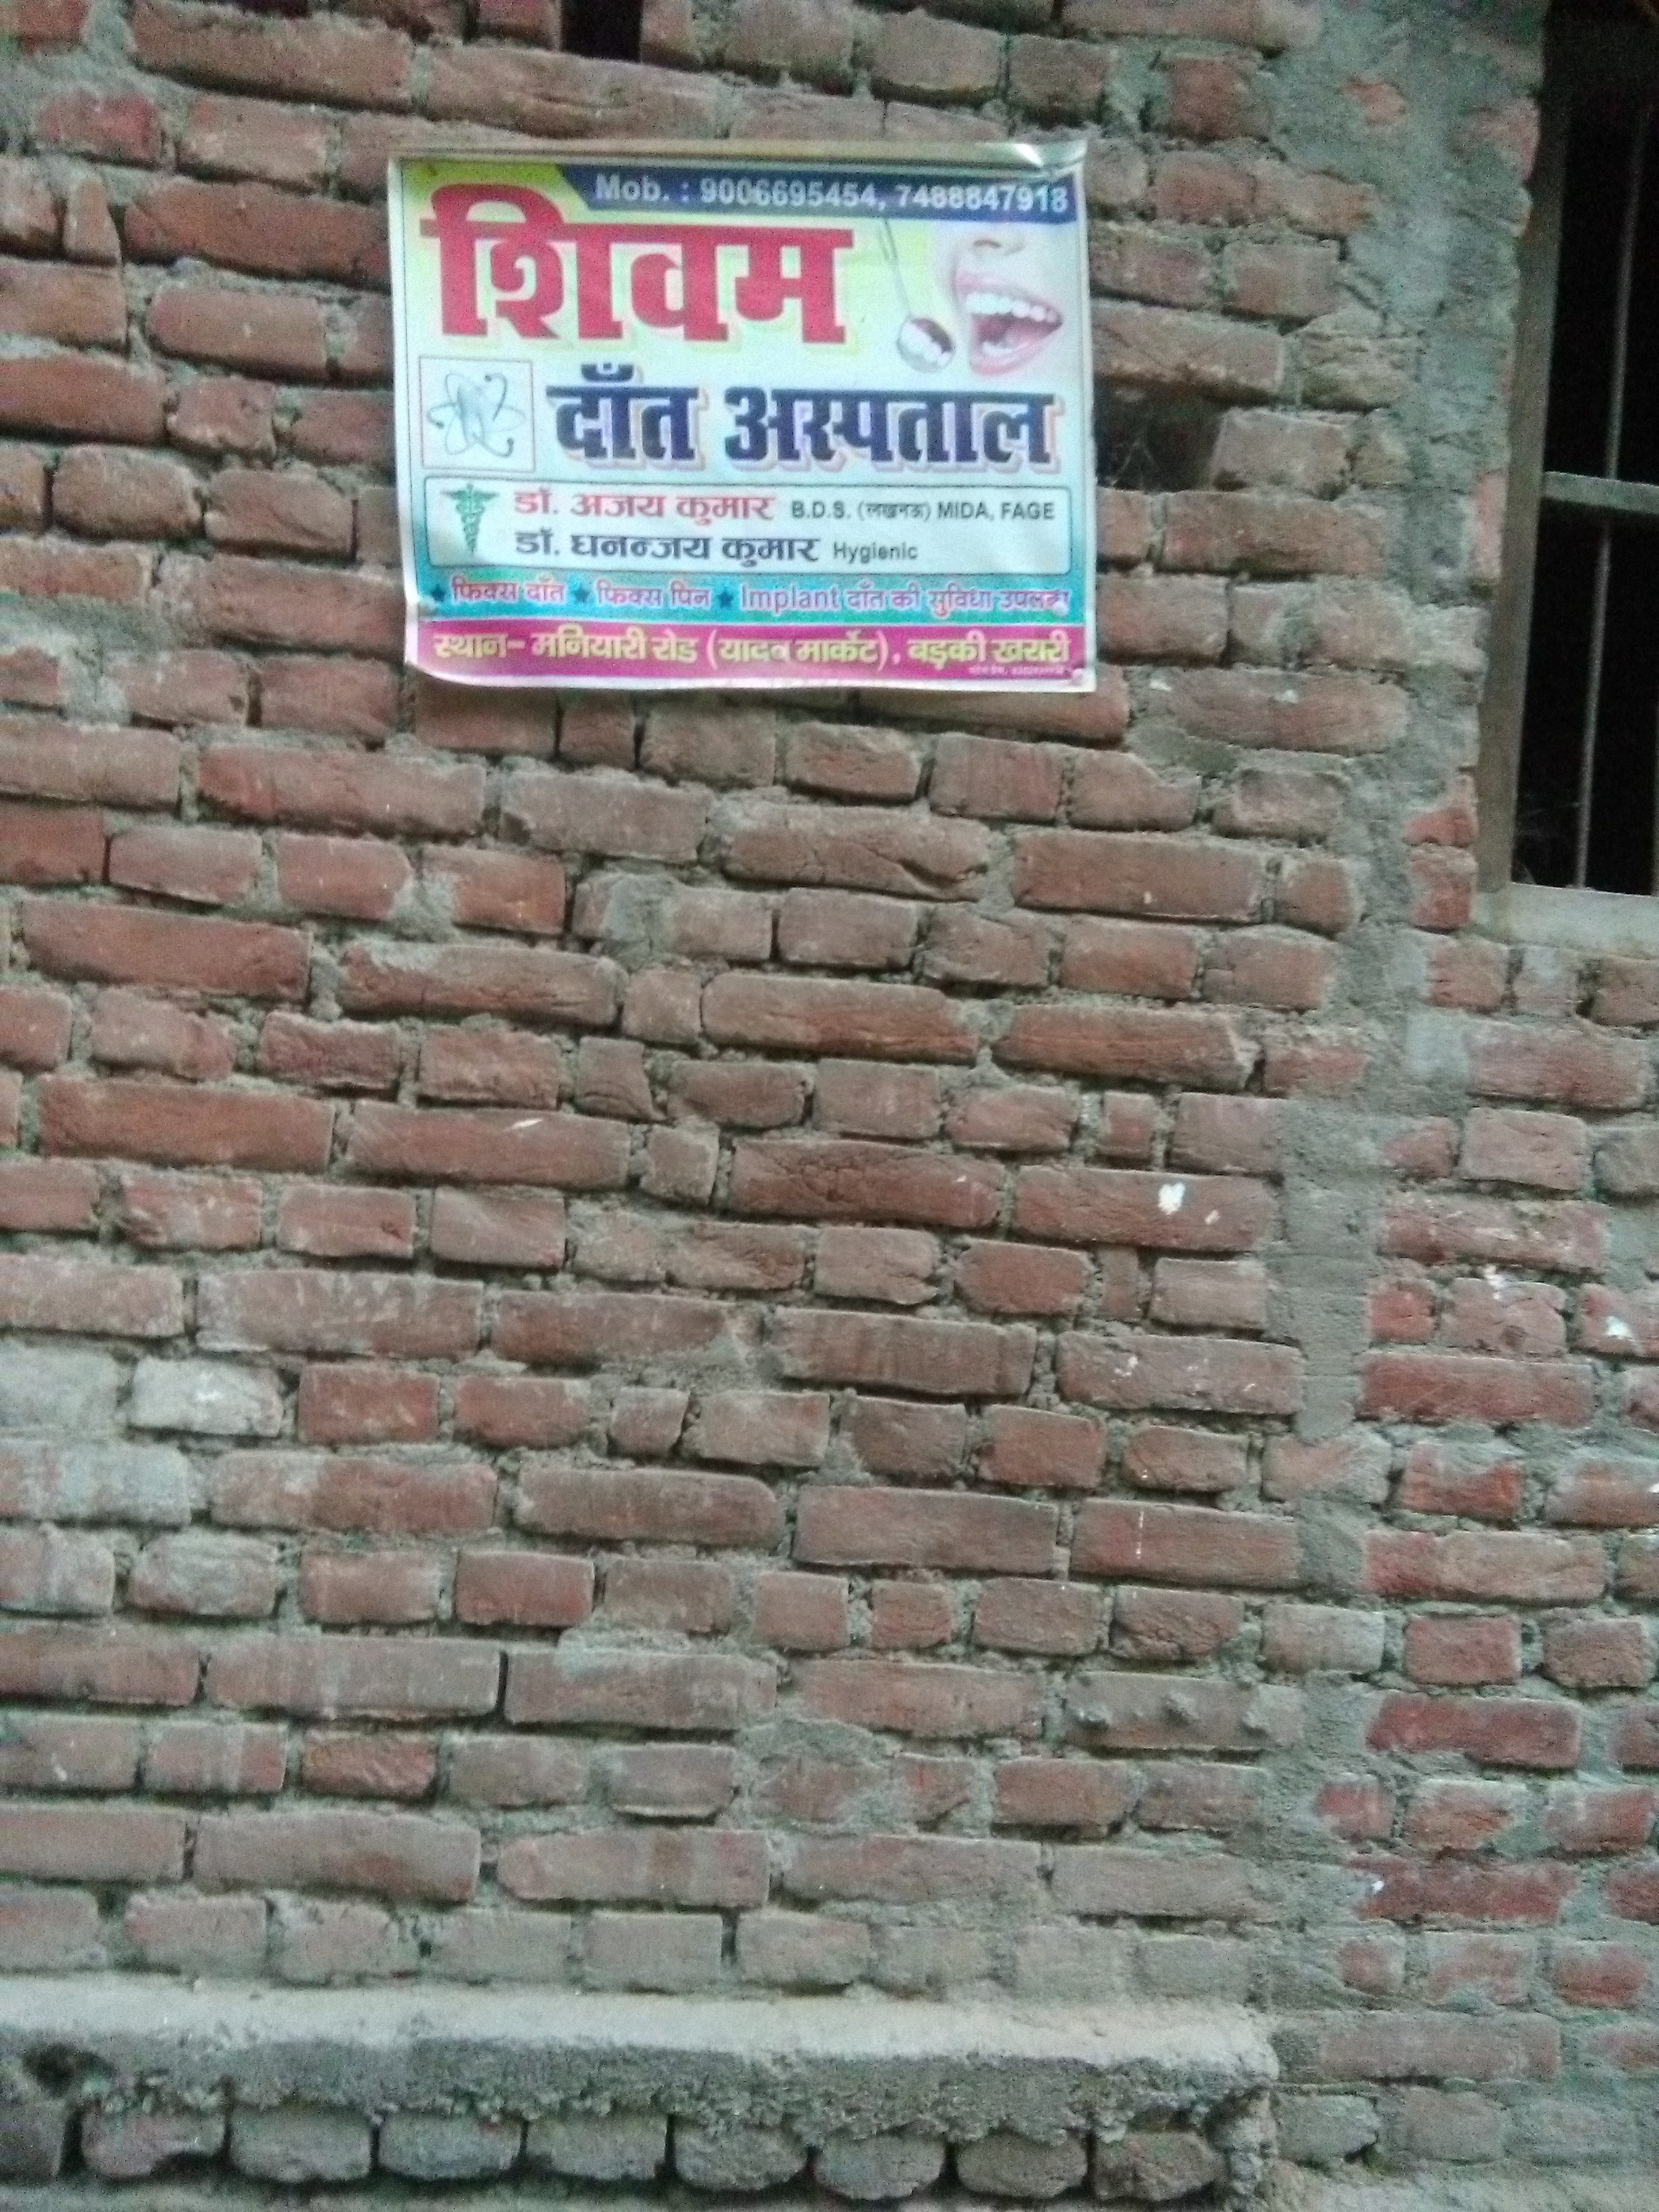text: (373, 125, 1091, 709)
